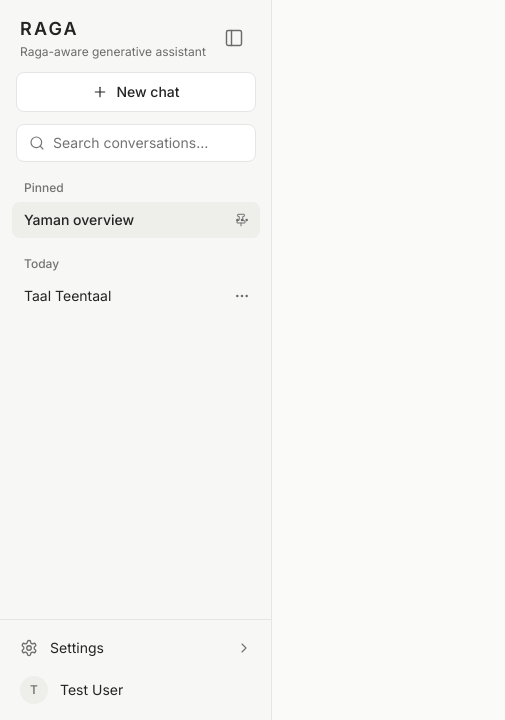
Sidebar conversation menu › pins, and offers Unpin for a pinned conversation
Click the button named "Options for Yaman overview" at {"x": 242, "y": 220}, box [228,206,256,234]
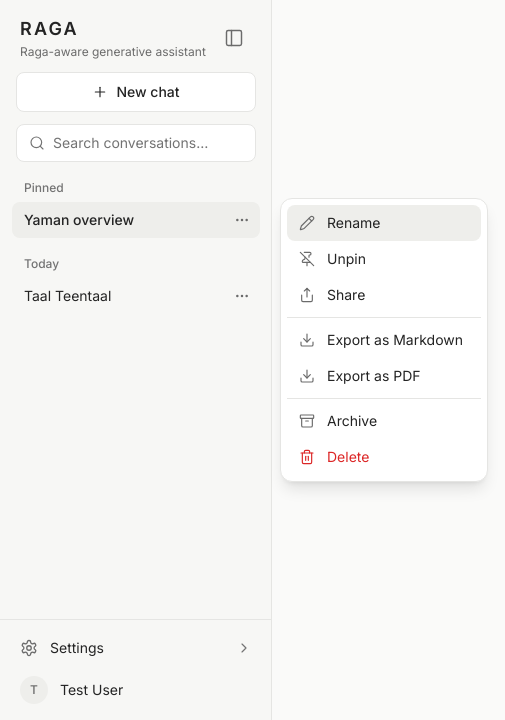
Click the menu item "Unpin" at {"x": 384, "y": 259}, box [287,241,481,277]
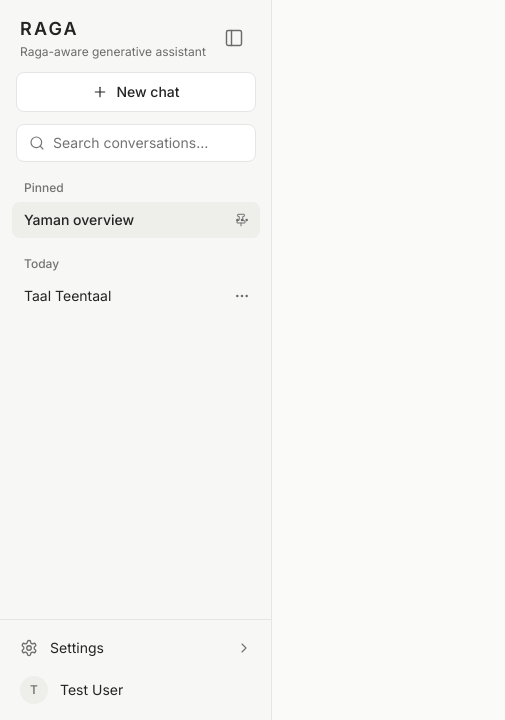
Now the menu is gone
